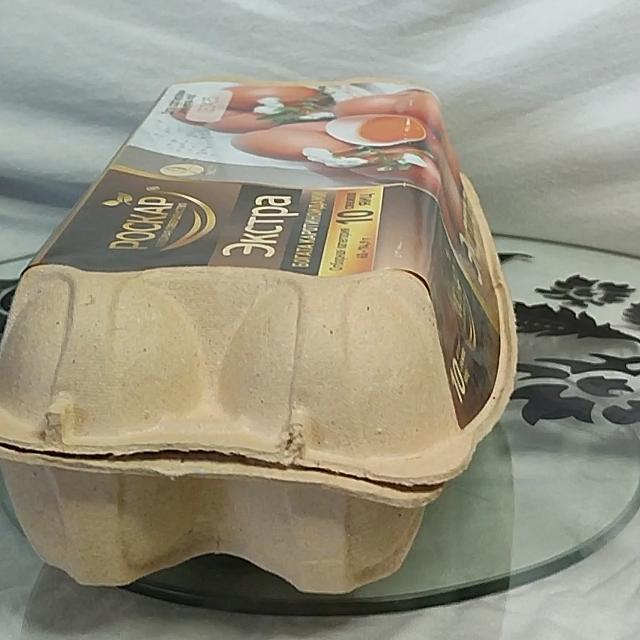egg: (0, 60, 522, 625)
